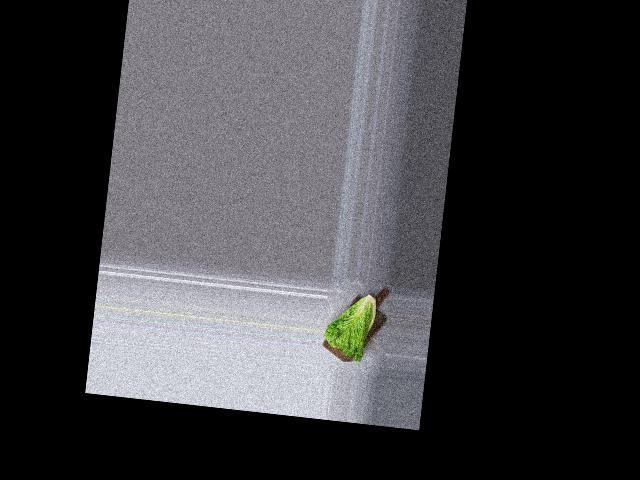lettuce: (322, 287, 385, 363)
